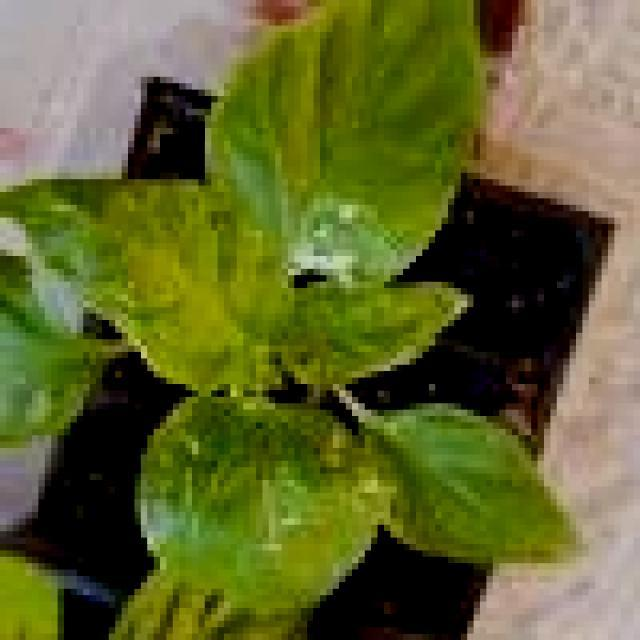Bercak Daun Serkospora: (205, 0, 480, 286)
